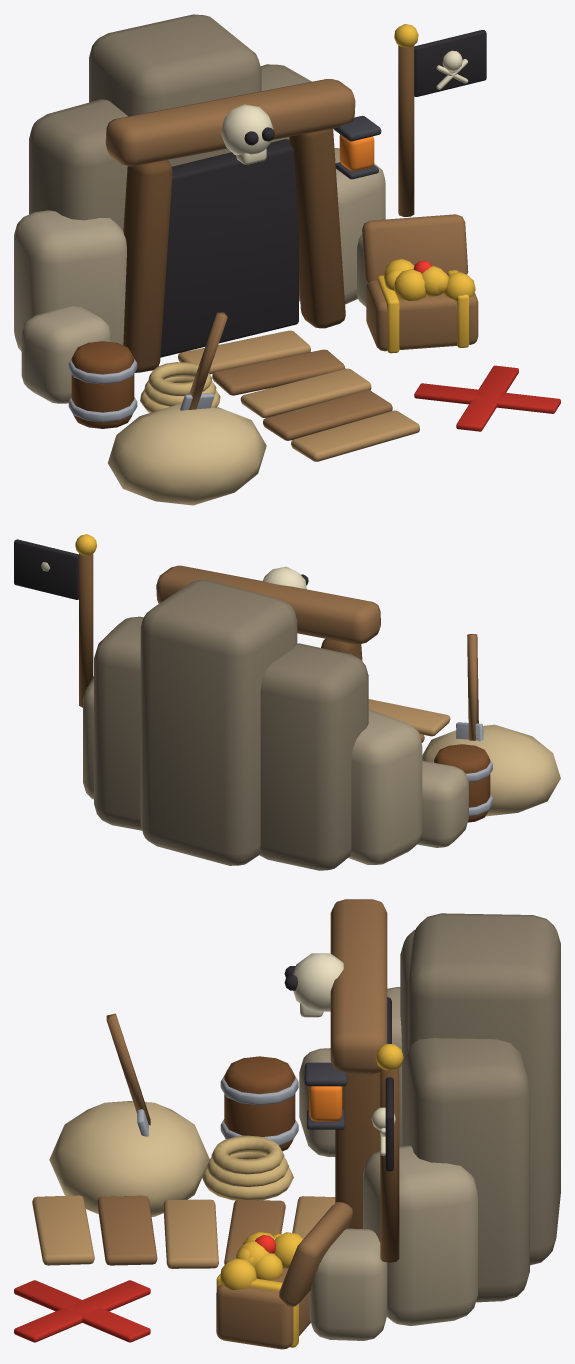
The model's file is Mine.glb.
3 renders of one model, top to bottom at view 1: azimuth 30°, elevation 25°; view 2: azimuth 150°, elevation 25°; view 3: azimuth 270°, elevation 25°, orthographic. The views are drawn at different scales.
Visible parts, largest first — view 1: Mine; view 2: Mine; view 3: Mine.
Boxes of the visible parts, x1=… form: Mine: x1=14, y1=14, x2=560, y2=505; Mine: x1=14, y1=534, x2=560, y2=870; Mine: x1=14, y1=899, x2=560, y2=1349.
Size of the model in its own units: 2.67 by 1.62 by 2.31.
